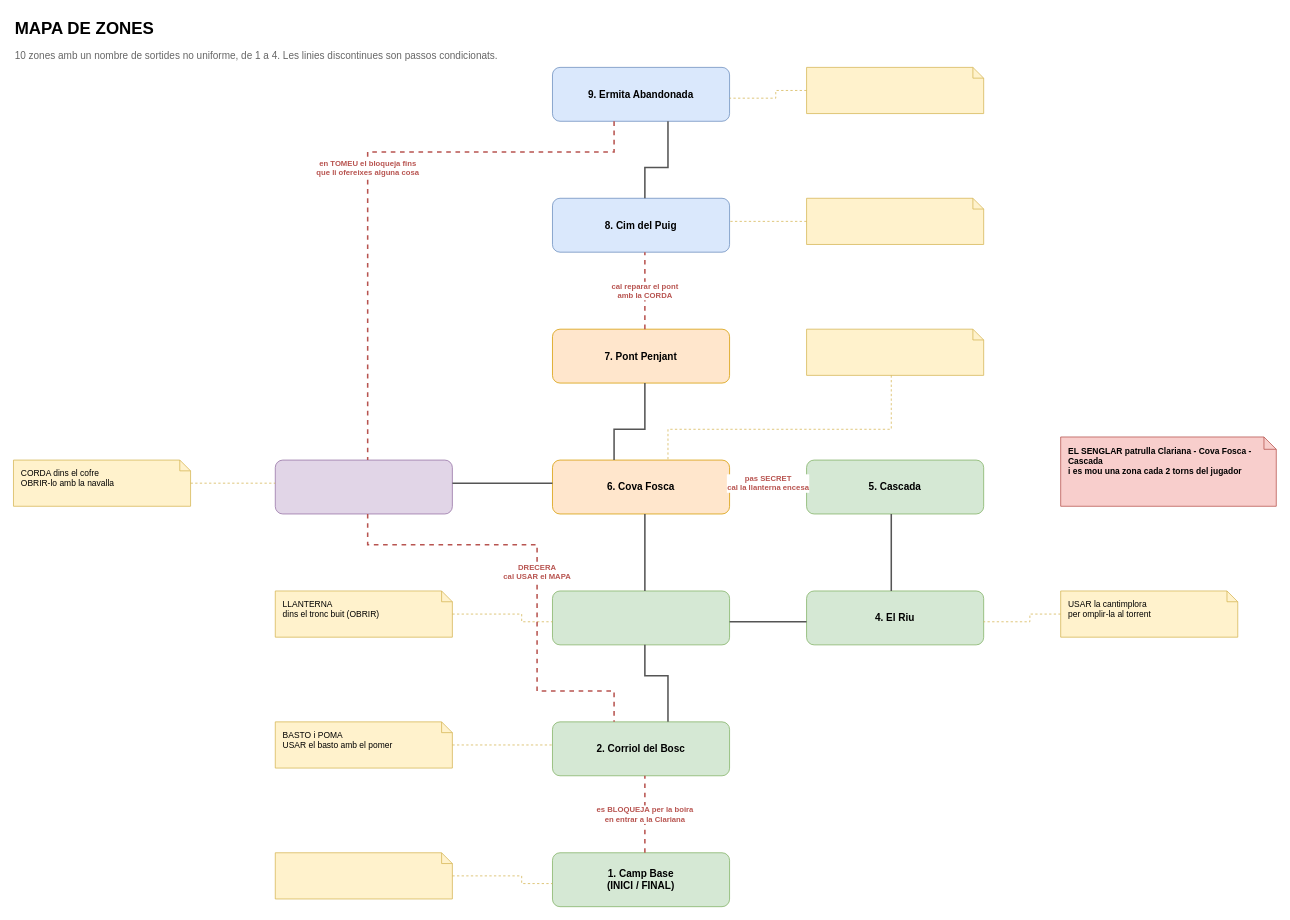
This 1290x920 diagram has some shape labels left out. The centre of each missing label's shape, as x and y in pixels:
10. Refugi Amagat: the point at 363,486
3. Clariana de les Flors: the point at 641,617
CANTIMPLORA AGAFAR-la de la motxilla: the point at 363,875
MAPA el dona en TOMEU: the point at 895,90
NAVALLA nomes visible amb la llanterna encesa: the point at 895,351
Quadern del vertex geodesic (OBRIR / TANCAR): the point at 895,221
